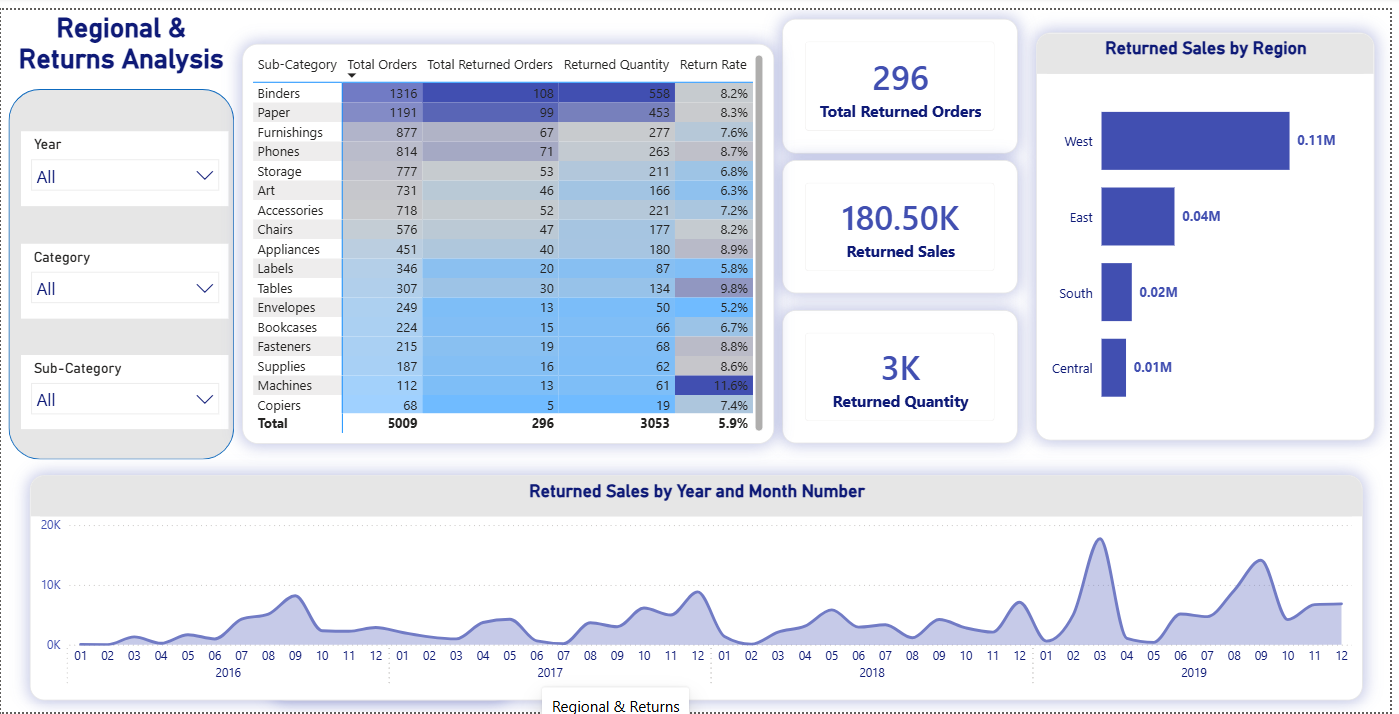

Layout of this report page (visuals, bound fields, positions):
{"tool":"powerbi","page":{"name":"Regional & Returns","canvas":[1425,720],"ordinal":3},"visuals":[{"type":"cardVisual","fields":{"Data":["Returns.Total Returned Orders"]},"box":[801.4,8.6,241.4,138.6],"z":0},{"type":"cardVisual","fields":{"Data":["Returns.Return Rate"]},"box":[278.6,570,241.4,138.6],"z":1000},{"type":"cardVisual","fields":{"Data":["Returns.Returned Quantity"]},"box":[801.4,307.1,241.4,137.1],"z":2000},{"type":"cardVisual","fields":{"Data":["Returns.Returned Sales"]},"box":[801.4,154.3,241.4,137.1],"z":3000},{"type":"shape","title":"Regional & Returns Analysis","box":[7.1,2.9,231.4,458.6],"z":4000},{"type":"slicer","fields":{"Values":["Calendar.Year"]},"box":[20,124.3,212.9,77.1],"z":5000},{"type":"slicer","fields":{"Values":["Orders.Category"]},"box":[20,240,212.9,77.1],"z":6000},{"type":"slicer","fields":{"Values":["Orders.Sub-Category"]},"box":[20,354.3,212.9,75.7],"z":7000},{"type":"lineChart","fields":{"Category":["Calendar.Year","Calendar.Month Number"],"Y":["Returns.Returned Sales"]},"box":[30,477.1,1367.1,231.4],"z":8000},{"type":"pivotTable","fields":{"Rows":["Orders.Sub-Category"],"Values":["Orders.Total Orders","Returns.Total Returned Orders","Returns.Returned Quantity","Returns.Return Rate"]},"box":[247.1,34.3,545.7,410],"z":9000},{"type":"clusteredBarChart","fields":{"Category":["Orders.Region"],"Y":["Returns.Returned Sales"]},"box":[1061.4,22.9,347.1,418.6],"z":10000}]}

Visuals, with their boxes in screenshot pixels (x1, y1, x2, y2), scaled from the page's 1425x720 canvas onto the 1399x714 screenshot:
cardVisual - Returns.Total Returned Orders: 787,9,1024,146
cardVisual - Returns.Return Rate: 274,565,511,703
cardVisual - Returns.Returned Quantity: 787,305,1024,440
cardVisual - Returns.Returned Sales: 787,153,1024,289
"Regional & Returns Analysis" shape: 7,3,234,458
slicer - Calendar.Year: 20,123,229,200
slicer - Orders.Category: 20,238,229,314
slicer - Orders.Sub-Category: 20,351,229,426
lineChart - Calendar.Year x Calendar.Month Number: 29,473,1372,703
pivotTable - Orders.Sub-Category x Orders.Total Orders: 243,34,778,441
clusteredBarChart - Orders.Region x Returns.Returned Sales: 1042,23,1383,438
